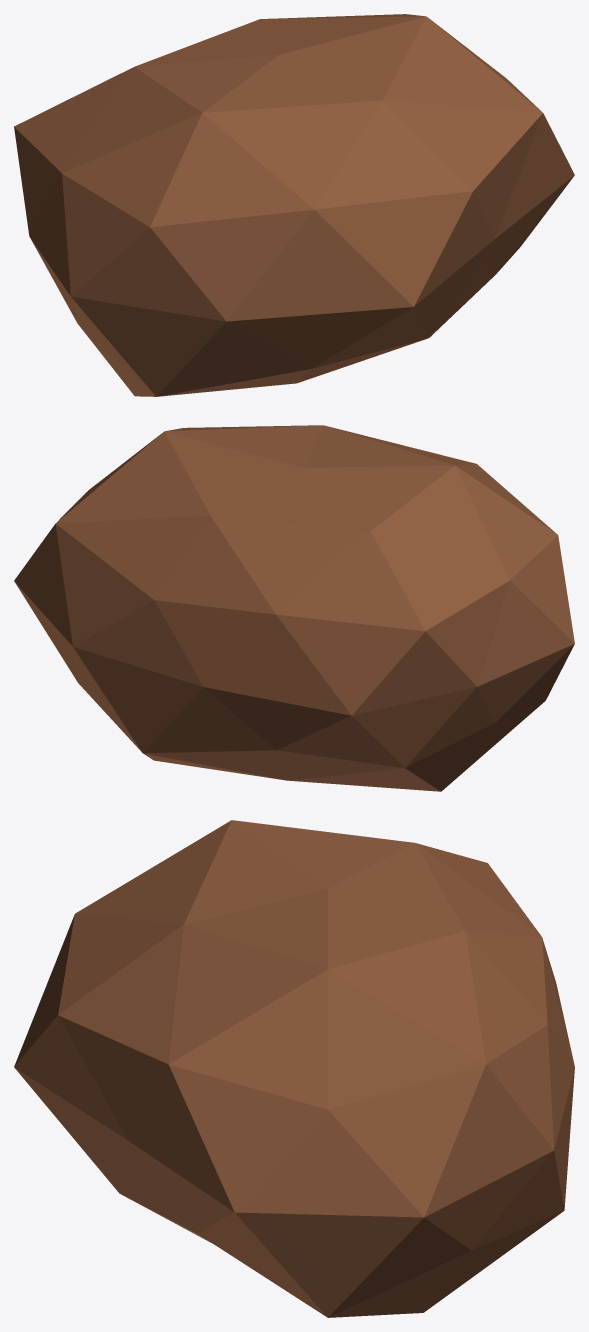
Rendered from rock.glb.
The picture shows the model from 3 angles, top to bottom: view 1: azimuth 30°, elevation 25°; view 2: azimuth 150°, elevation 25°; view 3: azimuth 270°, elevation 25°; orthographic projection. The views are drawn at different scales.
Visible parts, largest first — view 1: Rock; view 2: Rock; view 3: Rock.
Boxes of the visible parts, x1,y1,x2,y2 form: Rock: (14,14,574,396); Rock: (14,425,574,791); Rock: (14,820,574,1317).
Bounding box in the file's own units: 1.95 × 1.13 × 1.59.
